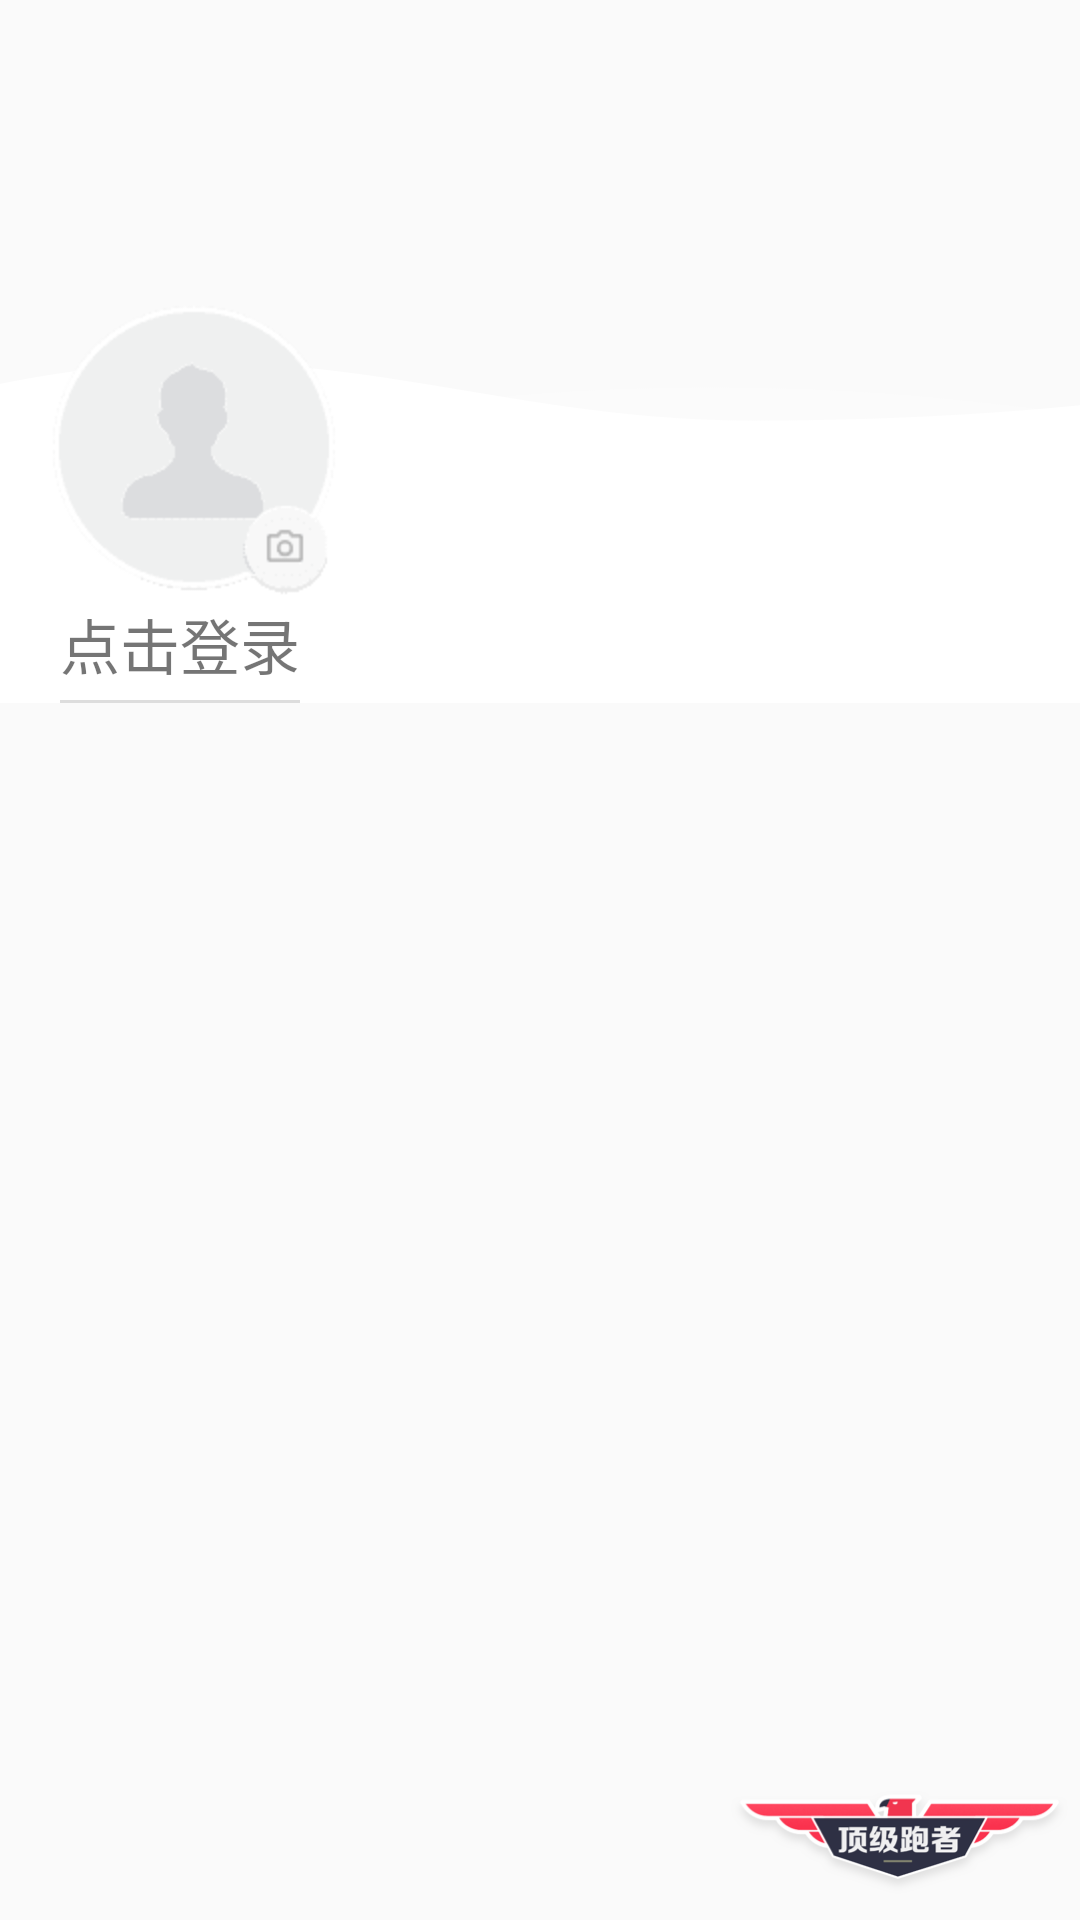

Where icons sit on this 1080 × 1920 app screen, as (x1, y1, x2, y2):
me level: (746, 1798, 1053, 1877)
